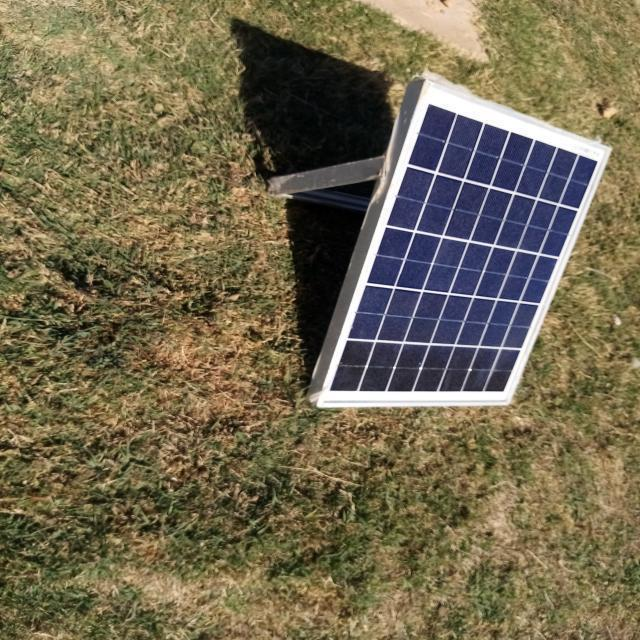Normal Solar Panel: (321, 79, 609, 404)
